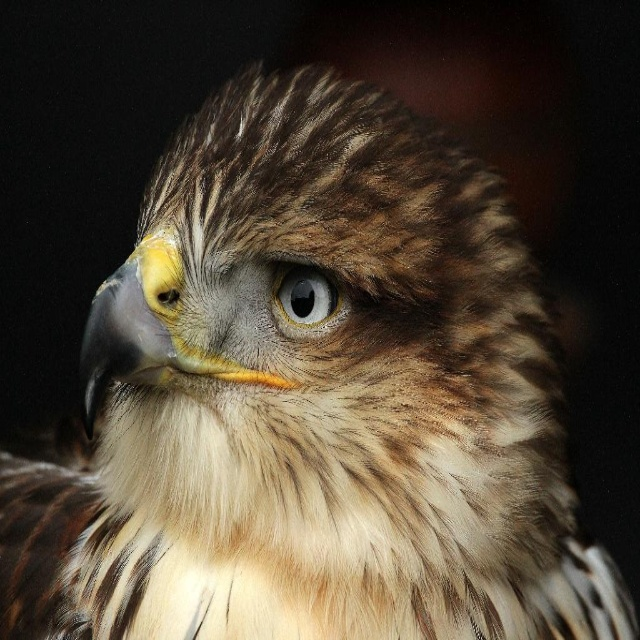Eagle: (0, 58, 640, 639)
